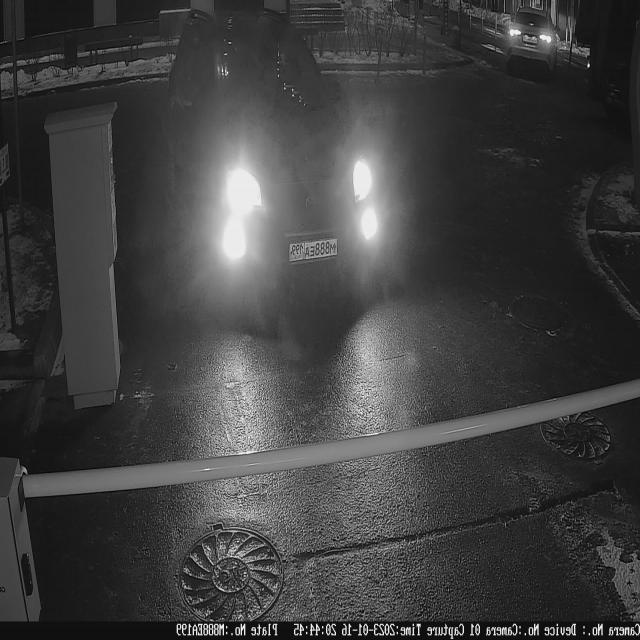car-plate-numbers: (286, 230, 341, 268)
